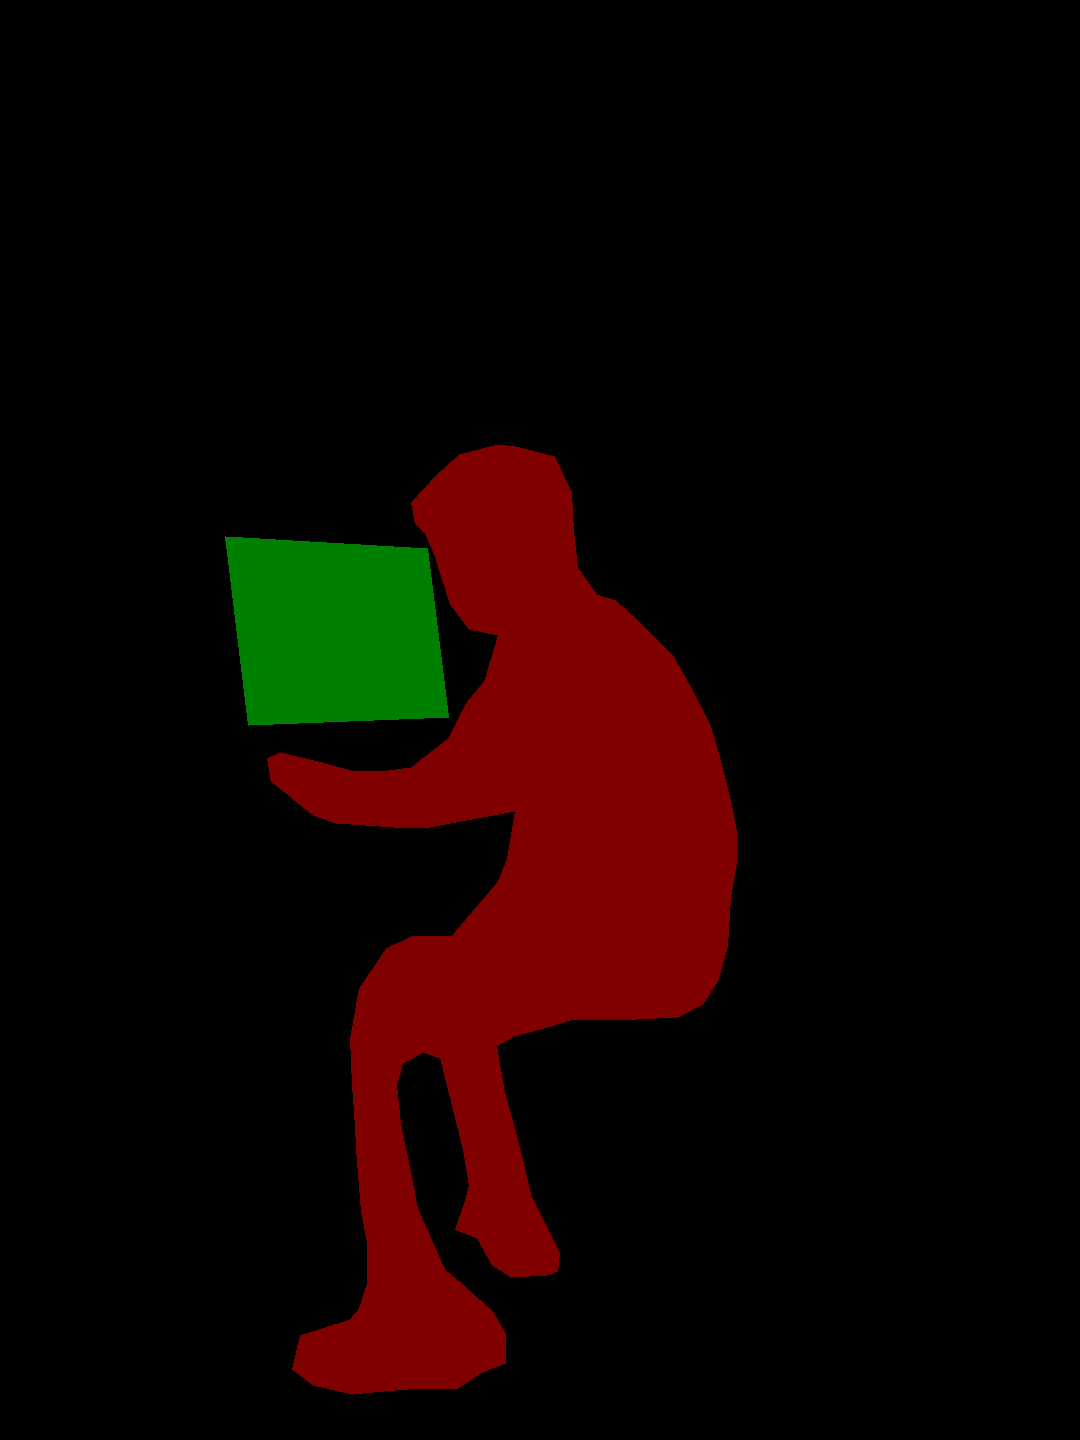person: (267, 444, 736, 1394)
tvmonitor: (225, 536, 448, 725)
